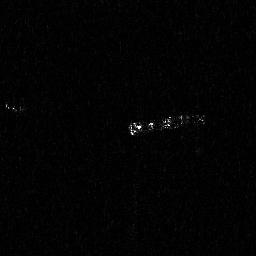ship: (126, 110, 208, 138)
